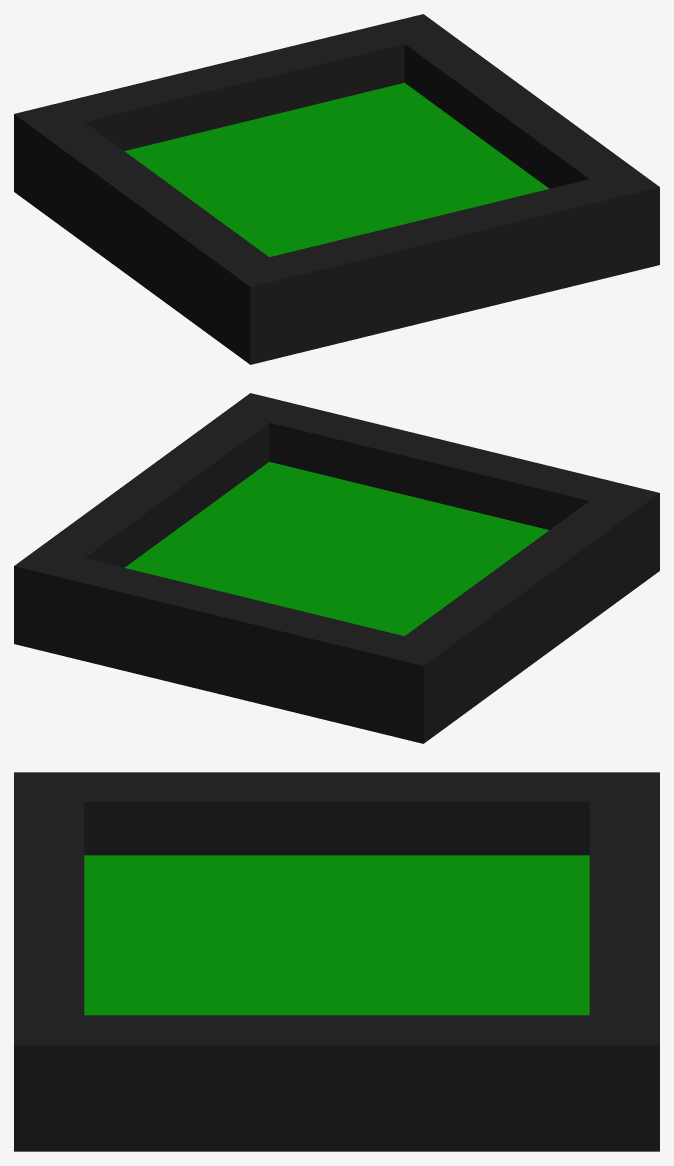
File: Garden_Box_1.fbx
3 renders of one model, top to bottom at view 1: azimuth 30°, elevation 25°; view 2: azimuth 150°, elevation 25°; view 3: azimuth 270°, elevation 25°, orthographic. The views are drawn at different scales.
Visible parts, largest first — view 1: Garden_Box_A; view 2: Garden_Box_A; view 3: Garden_Box_A.
Part boxes in pixels (x1,y1,x2,y2): Garden_Box_A: (14,14,659,364); Garden_Box_A: (14,393,659,743); Garden_Box_A: (14,772,659,1151).
Size of the model in its own units: 42.63 by 7.75 by 42.63.
